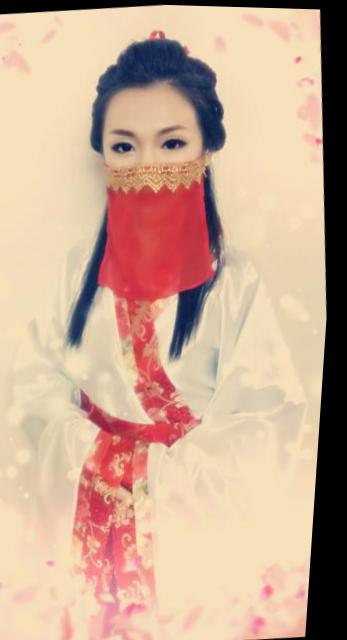WRONG: (99, 113, 205, 216)
